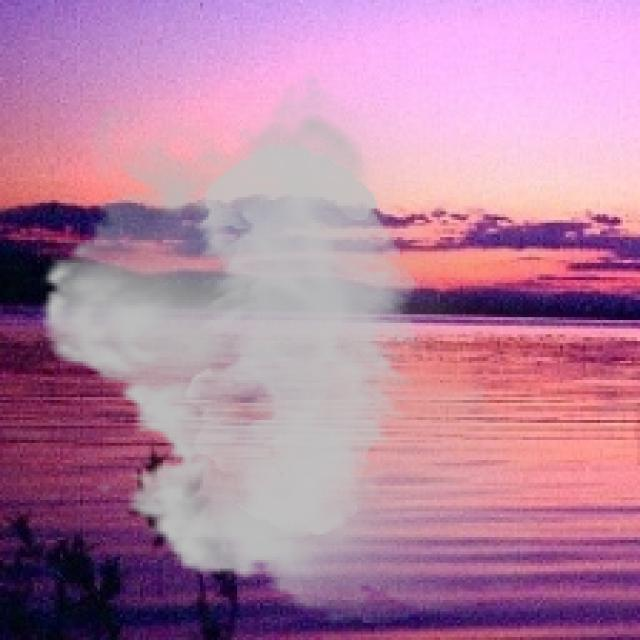smoke: (20, 71, 574, 623)
